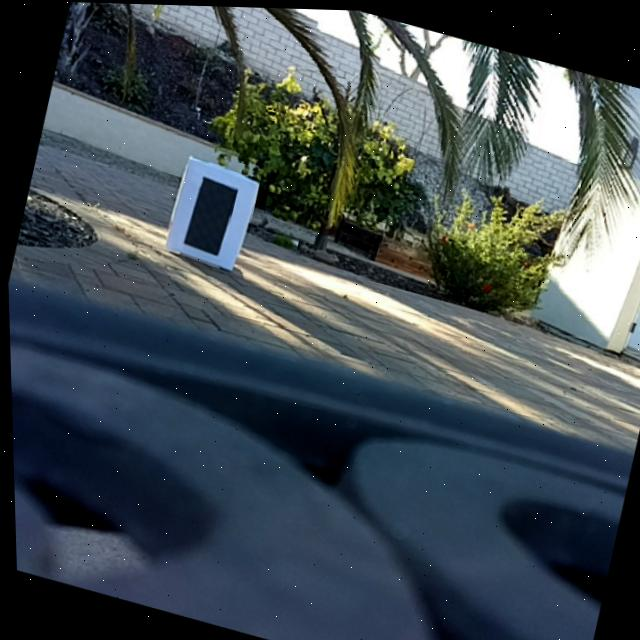led: (179, 172, 240, 258)
